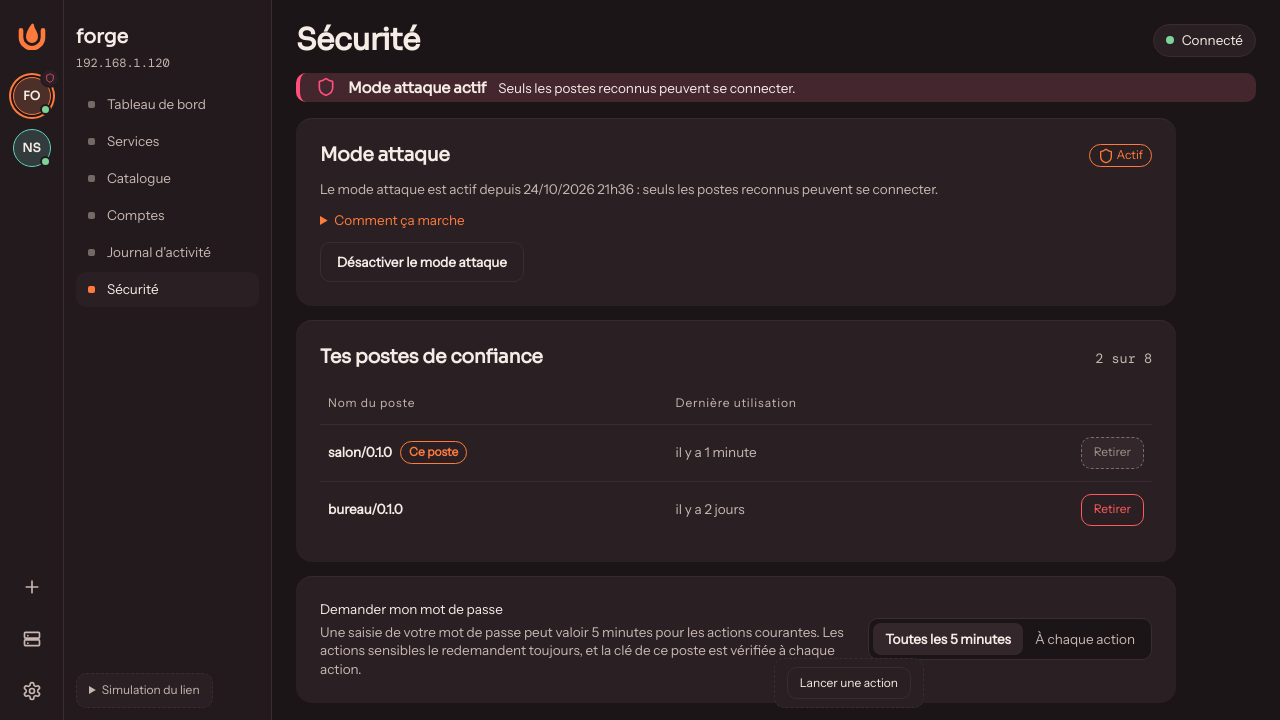
Scenario: Sécurité : le mode attaque › deactivates with the same confirmation and says so
Expected: the element showing "Actif" is shown, top-left (1089, 144), bottom-right (1152, 167)
Click the button "Désactiver le mode attaque": (422, 262) top-left (320, 242), bottom-right (524, 282)
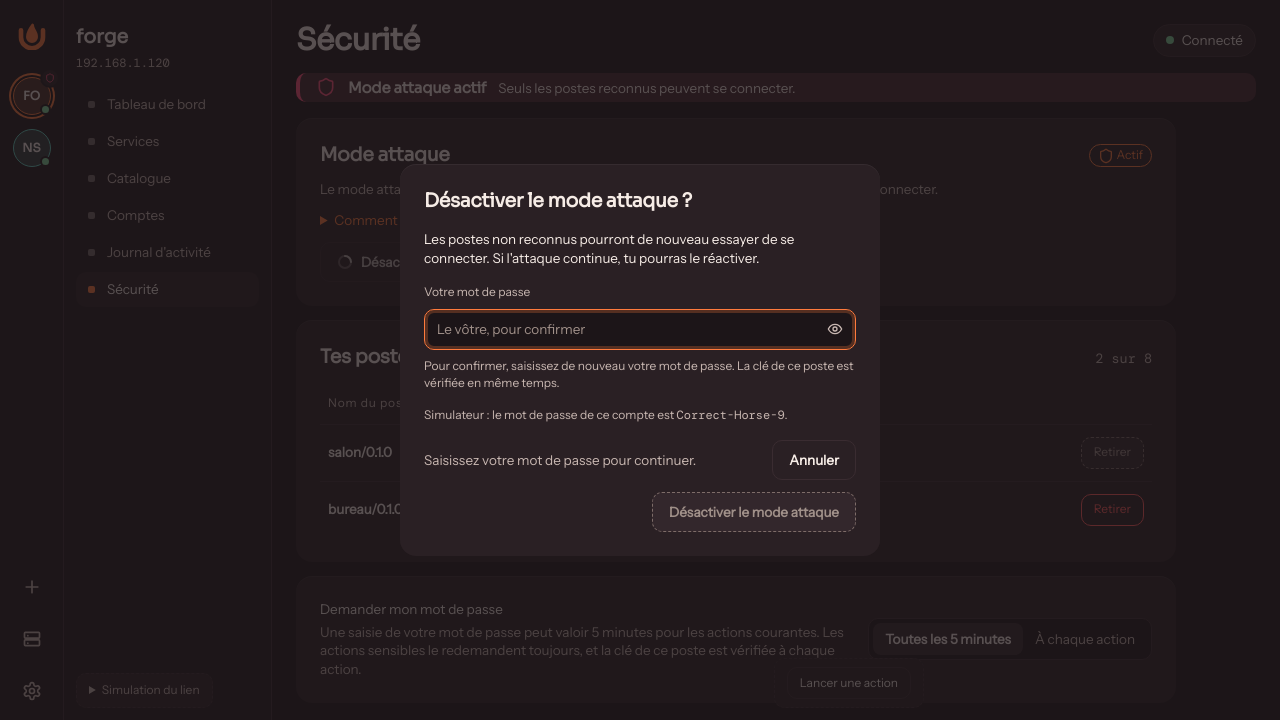
Now the dialog shows "Désactiver le mode attaque ?", box top-left (424, 189), bottom-right (692, 213)
In the password field labelled "Votre mot de passe": (620, 329) top-left (425, 310), bottom-right (815, 349), type "Correct-Horse-9"
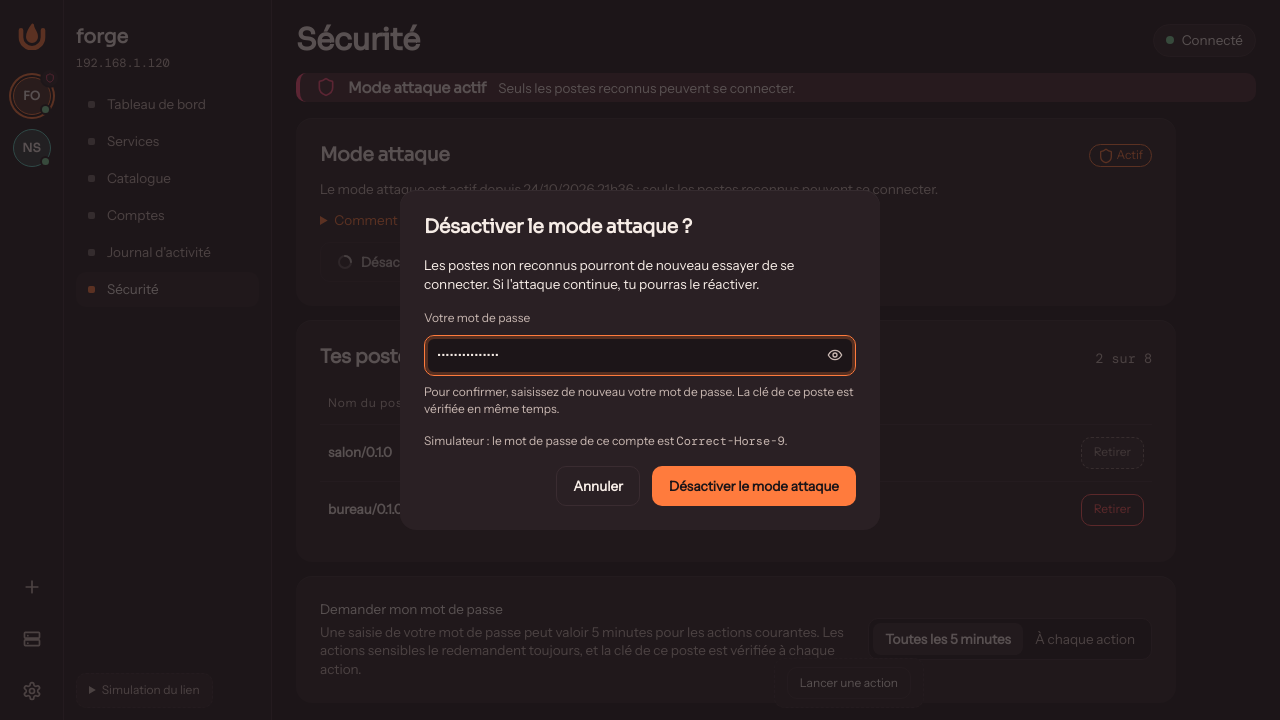
Click the button "Désactiver le mode attaque": (754, 486) top-left (652, 466), bottom-right (856, 506)
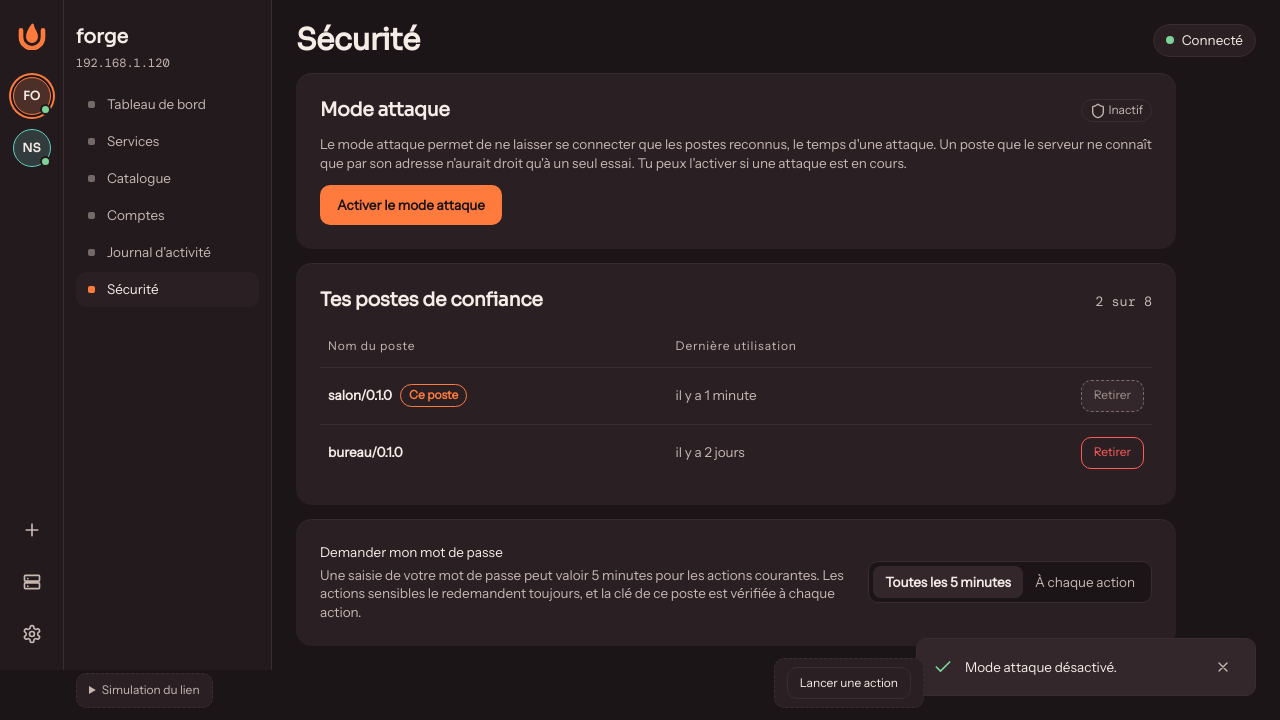
Now the dialog is gone
Now the element showing "Inactif" is shown, box top-left (1081, 99), bottom-right (1152, 122)
